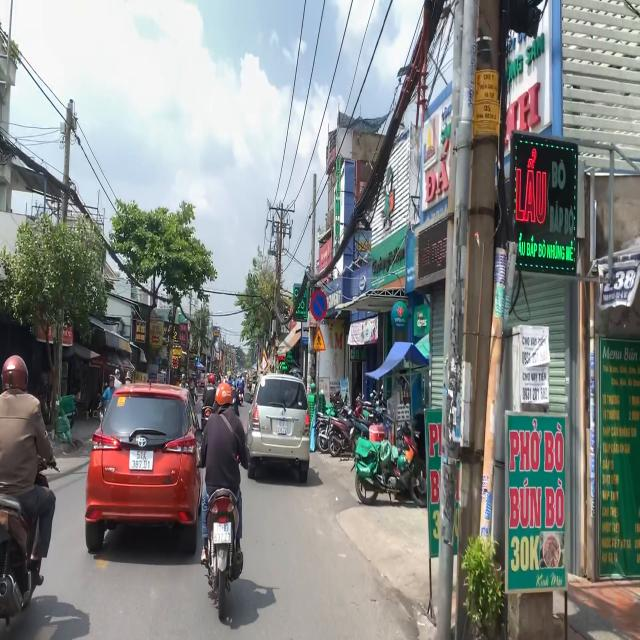Ben xe buyt: (301, 320, 311, 346)
Cam do: (310, 289, 328, 321)
Nguoi di bo cat ngang: (312, 326, 326, 351)
